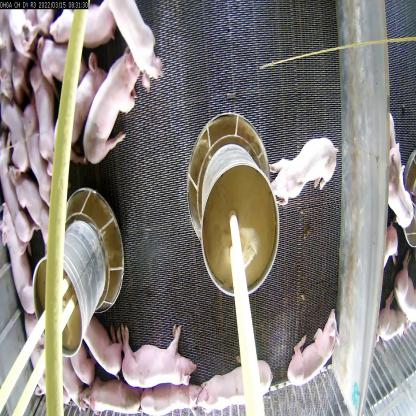Pig: (266, 120, 342, 210), (78, 52, 146, 148), (120, 318, 199, 388), (105, 0, 168, 84), (188, 356, 270, 416), (282, 311, 338, 384), (5, 169, 53, 246), (52, 70, 104, 141), (22, 99, 55, 209), (2, 216, 36, 320), (83, 373, 141, 415), (132, 385, 199, 415), (88, 317, 127, 362), (65, 340, 90, 374)
